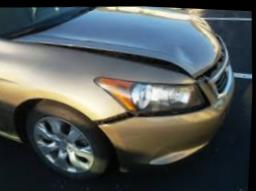Bonnet: (14, 9, 221, 75)
Bumper: (97, 32, 235, 165)
